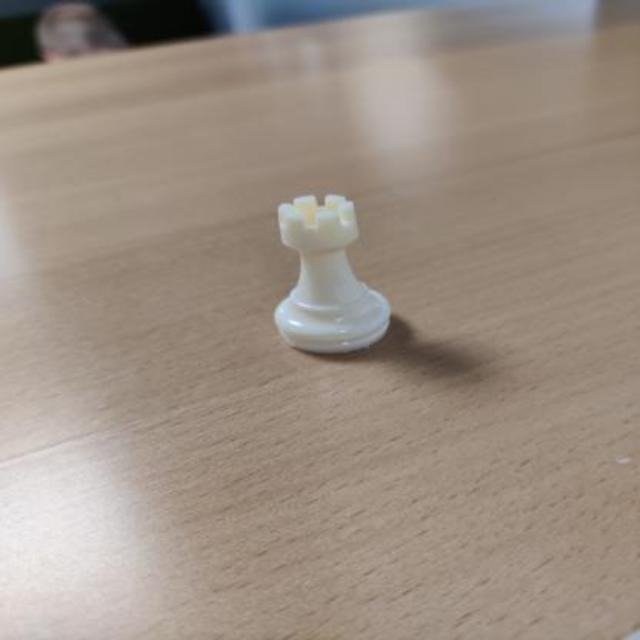white-rook: (272, 196, 396, 352)
